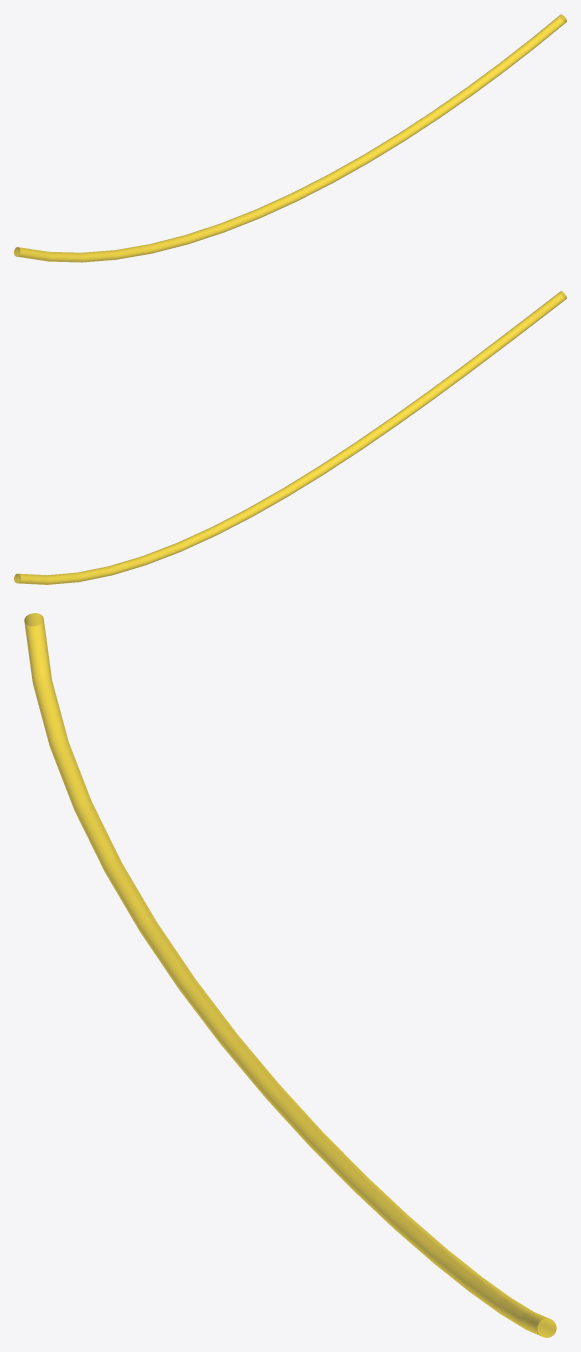
File: Event_27938768_track_83.fbx
3 renders of one model, top to bottom at view 1: azimuth 30°, elevation 25°; view 2: azimuth 210°, elevation 25°; view 3: azimuth 270°, elevation 25°, orthographic. The views are drawn at different scales.
Visible parts, largest first — view 1: Model; view 2: Model; view 3: Model.
Part boxes in pixels (left/top/right/bottom): Model: left=14, top=14, right=566, bottom=262; Model: left=14, top=291, right=566, bottom=584; Model: left=24, top=613, right=556, bottom=1337.
Bounding box in the file's own units: 3.19 × 0.3638 × 1.09.
